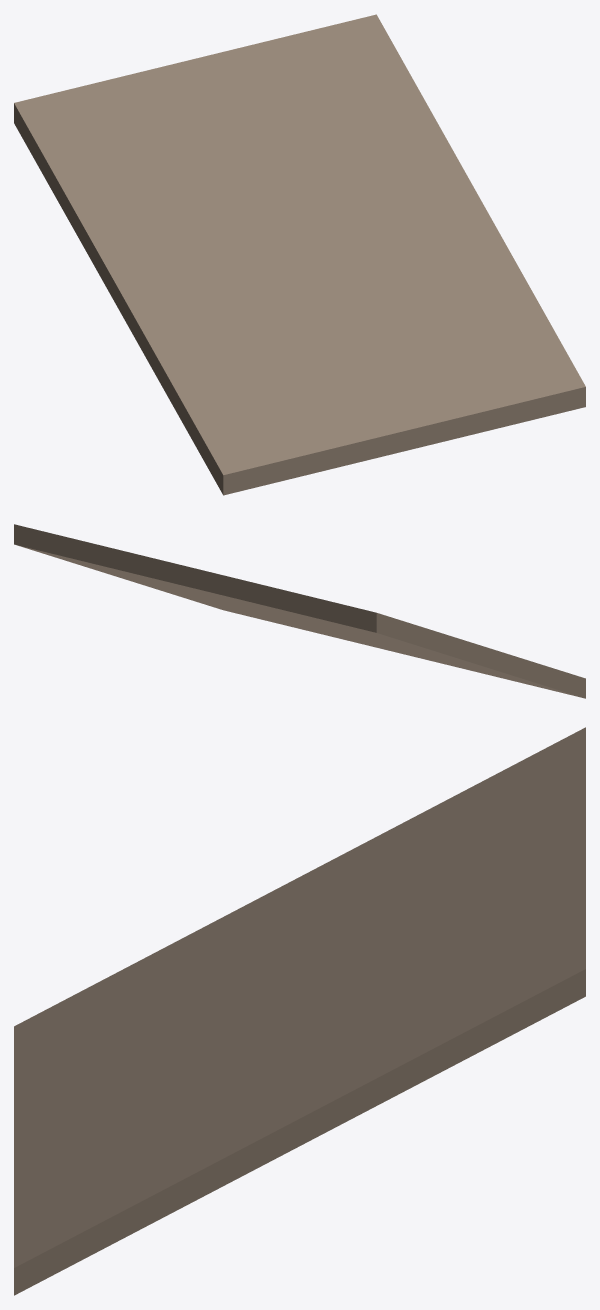
The model's file is roof_collider.glb.
3 views of the same model, one above another, from view 1: azimuth 30°, elevation 25°; view 2: azimuth 150°, elevation 25°; view 3: azimuth 270°, elevation 25° (orthographic). The views are drawn at different scales.
Parts seen in each view (by area): view 1: roof_collider; view 2: roof_collider; view 3: roof_collider.
Part boxes in pixels (box(x1,y1,x2,y2)): roof_collider: box(14, 14, 585, 495); roof_collider: box(14, 524, 585, 698); roof_collider: box(14, 727, 585, 1295).
Bounding box in the file's own units: 3 × 1.89 × 3.
